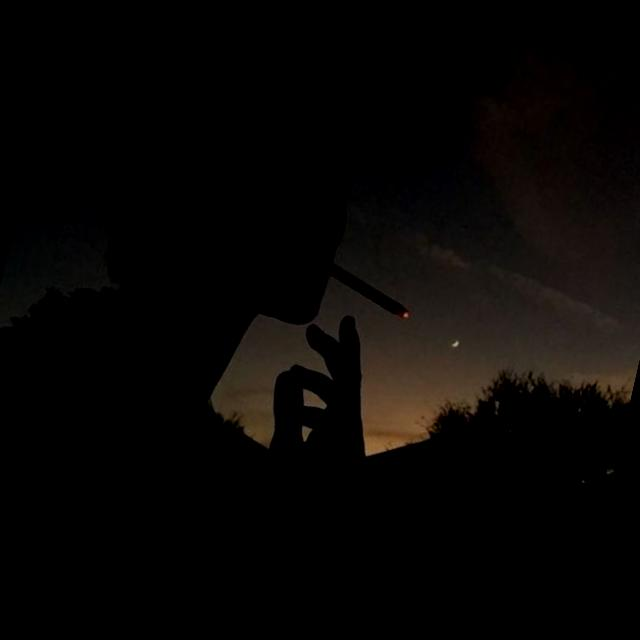cigarette: (317, 258, 423, 323)
